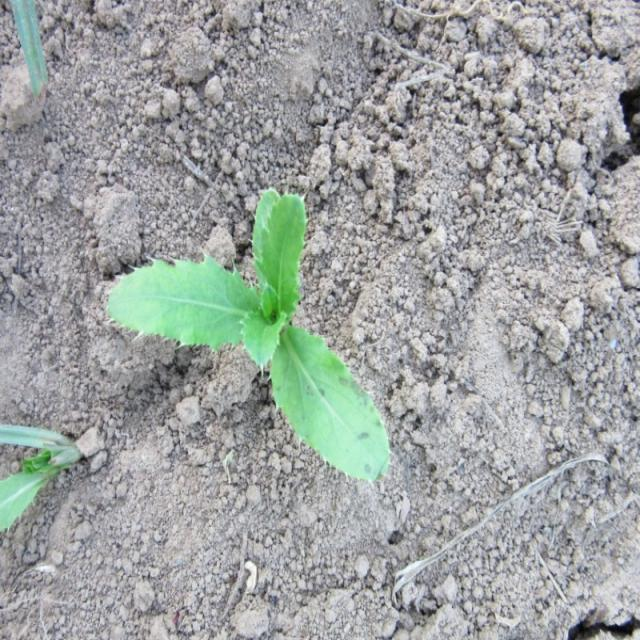cs: (103, 183, 396, 485)
